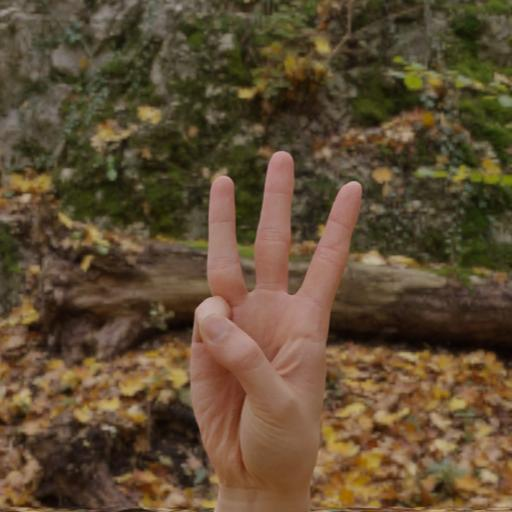W: (174, 142, 411, 474)
